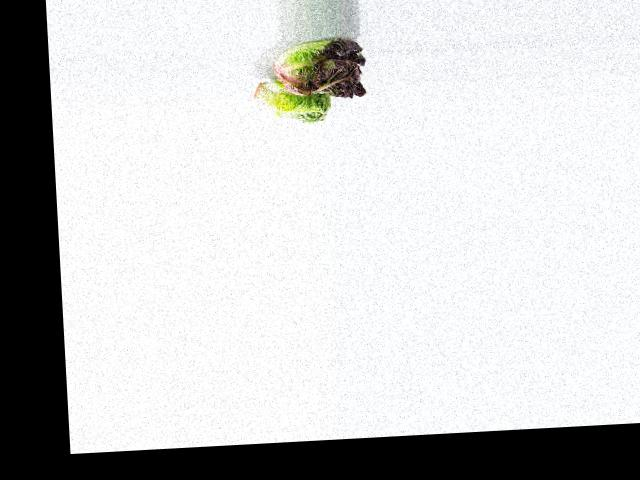lettuce: (250, 75, 333, 126)
